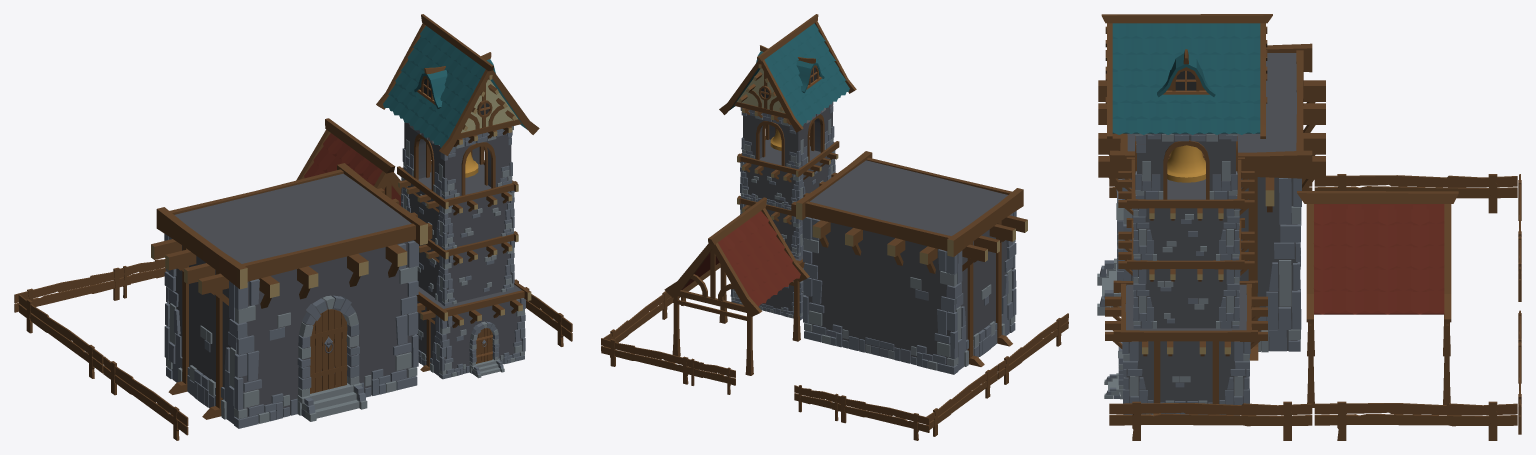
The model's file is london_bld_school.glb.
3 renders of one model, left to right at view 1: azimuth 30°, elevation 25°; view 2: azimuth 150°, elevation 25°; view 3: azimuth 270°, elevation 25°, orthographic. The views are drawn at different scales.
Parts seen in each view (by area): view 1: House_4, Bell_Tower, Fence (×5), Gazebo; view 2: House_4, Bell_Tower, Gazebo, Fence (×7); view 3: Bell_Tower, House_4, Gazebo, Fence (×3).
Part boxes in pixels (bbox=[...]): House_4: bbox=[151, 163, 432, 428]; Bell_Tower: bbox=[376, 14, 539, 379]; Fence (×5): bbox=[14, 259, 572, 440]; Gazebo: bbox=[296, 118, 401, 205]; House_4: bbox=[791, 151, 1027, 374]; Bell_Tower: bbox=[719, 14, 856, 320]; Gazebo: bbox=[664, 197, 809, 375]; Fence (×7): bbox=[601, 291, 1068, 440]; Bell_Tower: bbox=[1101, 14, 1272, 415]; House_4: bbox=[1097, 43, 1325, 360]; Gazebo: bbox=[1297, 191, 1458, 407]; Fence (×3): bbox=[1109, 174, 1517, 440].
Bounding box in the file's own units: 21.33 × 16.2 × 16.54.
